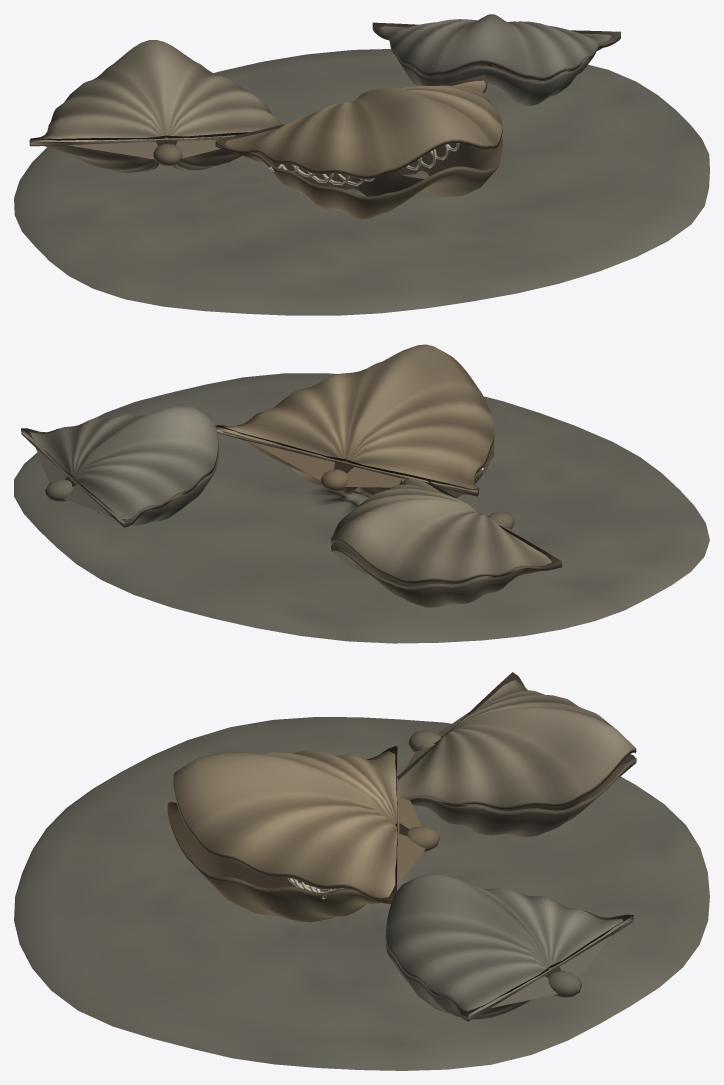
The model's file is EospiriferRadiatus.fbx.
3 views of the same model, one above another, from view 1: azimuth 30°, elevation 25°; view 2: azimuth 150°, elevation 25°; view 3: azimuth 270°, elevation 25° (orthographic). The views are drawn at different scales.
Parts seen in each view (by area): view 1: EospiriferRadiatus; view 2: EospiriferRadiatus; view 3: EospiriferRadiatus.
Boxes of the visible parts, <box> form: EospiriferRadiatus: <box>14,14,709,315</box>; EospiriferRadiatus: <box>14,344,709,643</box>; EospiriferRadiatus: <box>14,672,709,1070</box>.
Bounding box in the file's own units: 1.9 × 0.3565 × 1.59.
